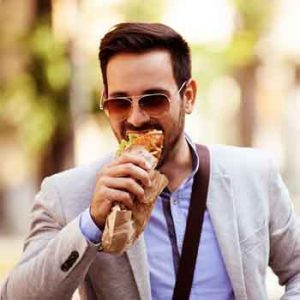eating: (34, 10, 282, 268)
